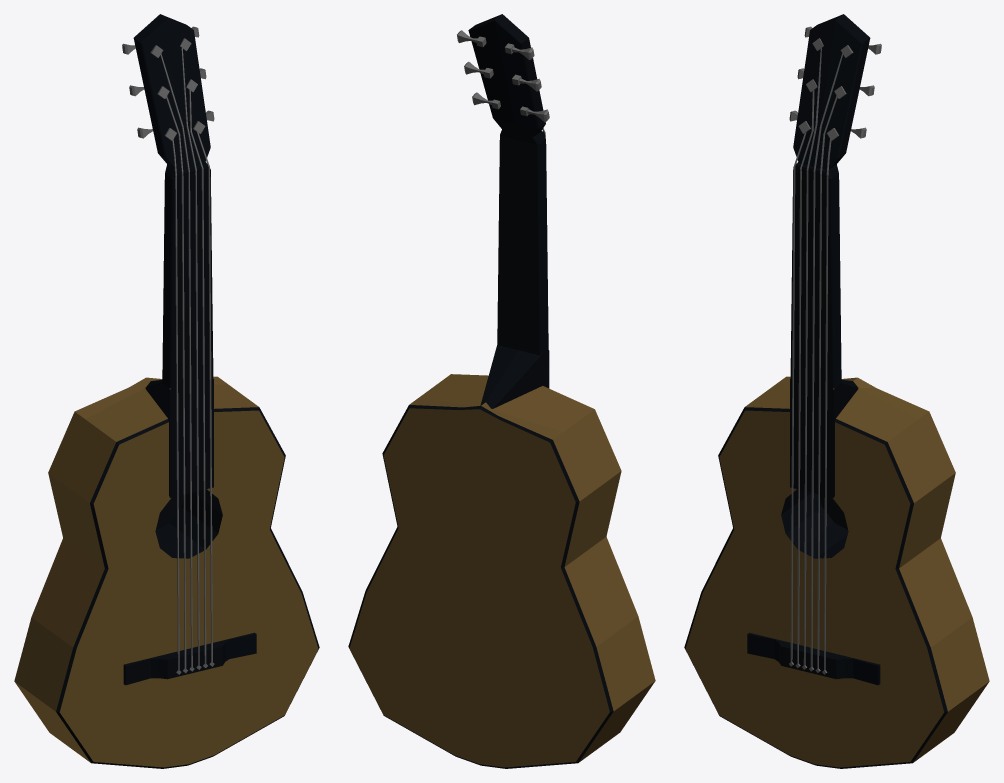
The model's file is Guitar1.glb.
3 views of the same model, side by side, from view 1: azimuth 30°, elevation 25°; view 2: azimuth 150°, elevation 25°; view 3: azimuth 330°, elevation 25° (orthographic).
Visible parts, largest first — view 1: Guitar1; view 2: Guitar1; view 3: Guitar1.
Boxes of the visible parts, x1=… form: Guitar1: x1=14, y1=14, x2=319, y2=768; Guitar1: x1=348, y1=14, x2=655, y2=768; Guitar1: x1=684, y1=14, x2=989, y2=768.
Size of the model in its own units: 0.4811 by 1.28 by 0.1623.
